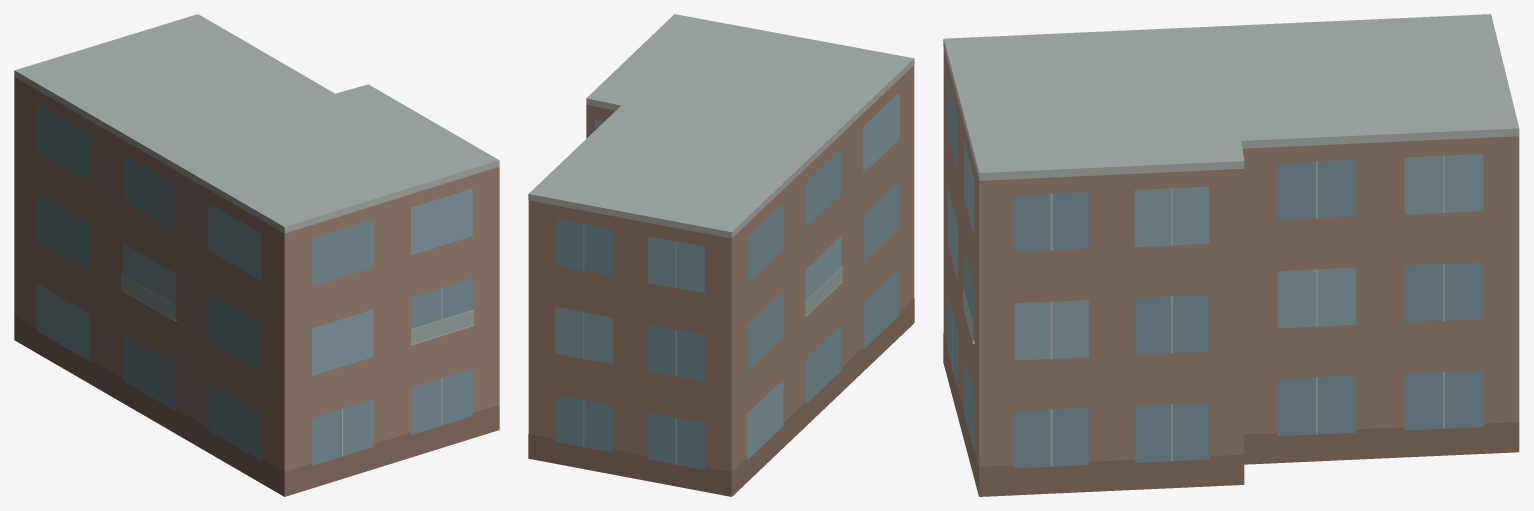
Rendered from survey-upis-32637577.glb.
The picture shows the model from 3 angles, left to right: view 1: azimuth 30°, elevation 25°; view 2: azimuth 150°, elevation 25°; view 3: azimuth 270°, elevation 25°; orthographic projection. The views are drawn at different scales.
Visible parts, largest first — view 1: survey-upis-32637577.tmp; view 2: survey-upis-32637577.tmp; view 3: survey-upis-32637577.tmp.
Part boxes in pixels (x1,y1,x2,y2): survey-upis-32637577.tmp: (14,14,499,496); survey-upis-32637577.tmp: (528,14,914,496); survey-upis-32637577.tmp: (943,14,1519,496).
Bounding box in the file's own units: 10.76 × 10.2 × 16.46.
